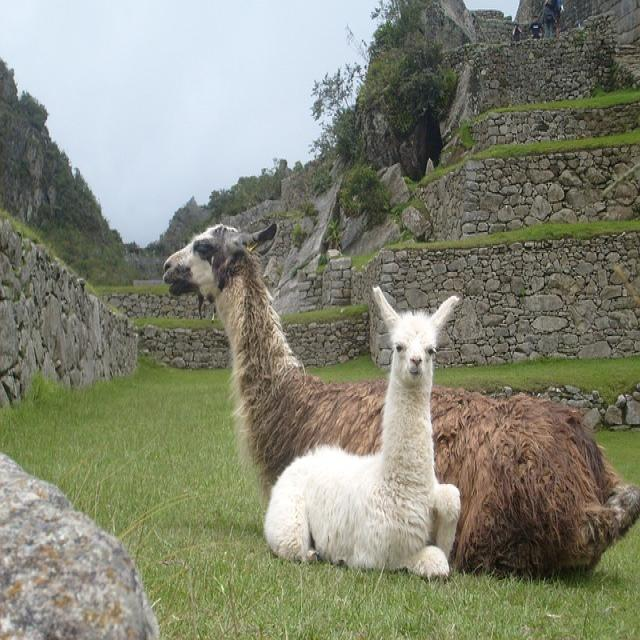Herbivorous: (165, 231, 388, 505), (265, 288, 460, 580)
